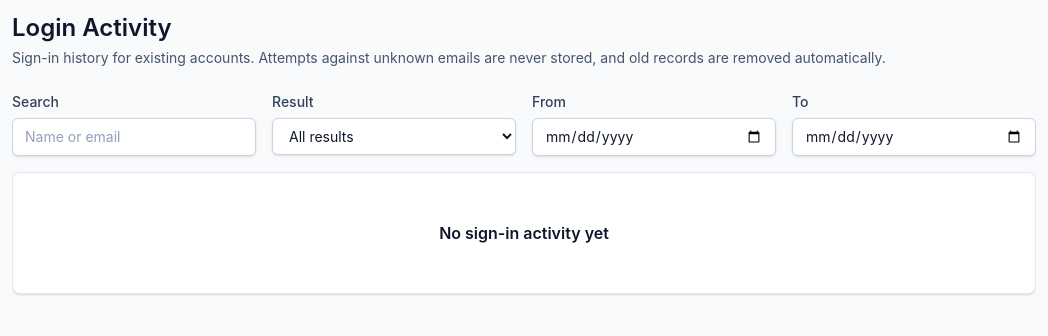
LoginActivityPage › distinguishes "no activity yet" from "no matches"
Expected: the heading "No sign-in activity yet" is shown, [439, 221, 609, 245]
Select "Blocked" in the dropdown labelled "Result" at (394, 136), box [272, 118, 516, 155]
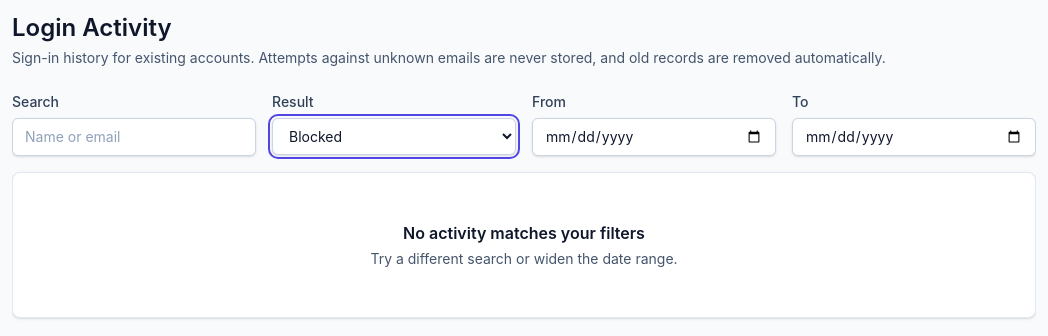
Expected: the heading "No activity matches your filters" is shown, [403, 221, 645, 245]
